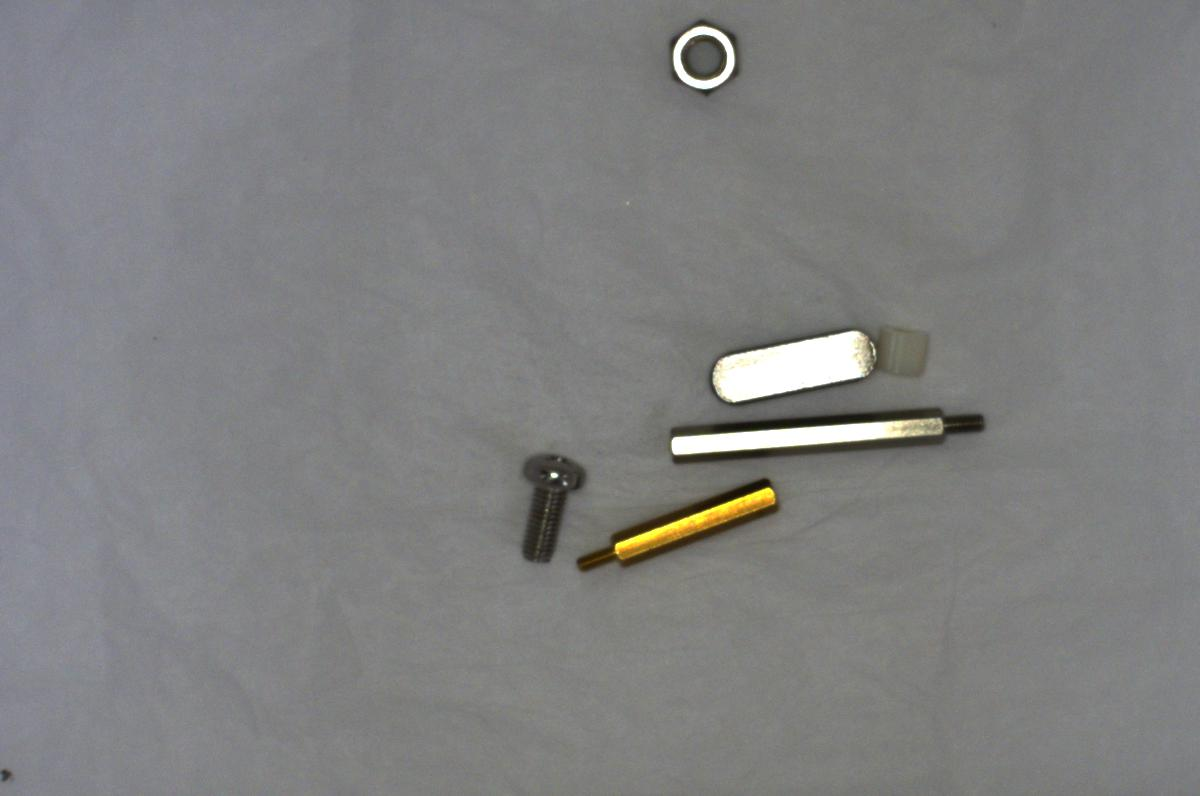Hexagon nut: (666, 15, 747, 96)
Hexagon pillar: (569, 468, 787, 578)
Hexagonal steel column: (655, 394, 1000, 462)
Keybar: (694, 323, 880, 404)
Plastic cushion pillar: (865, 309, 942, 389)
Round head screw: (510, 446, 588, 558)
